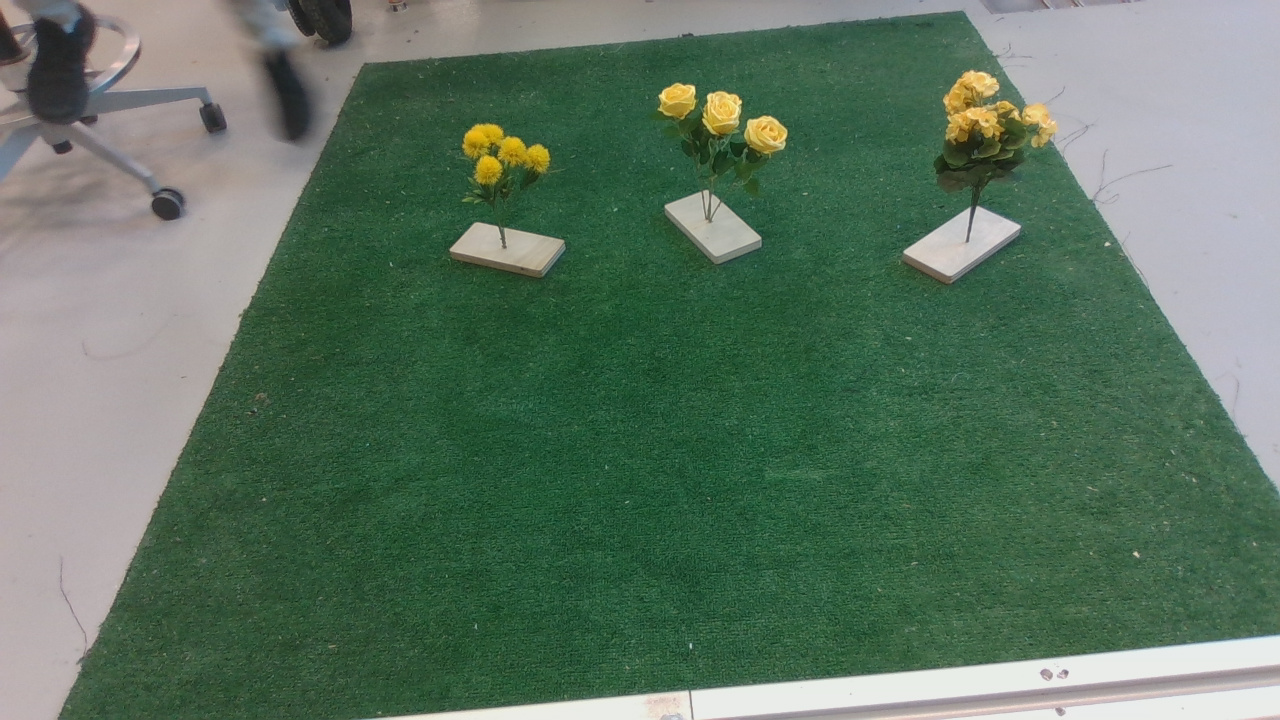dandelion: (450, 122, 562, 214)
geranium: (935, 62, 1069, 213)
rose: (652, 79, 794, 207)
